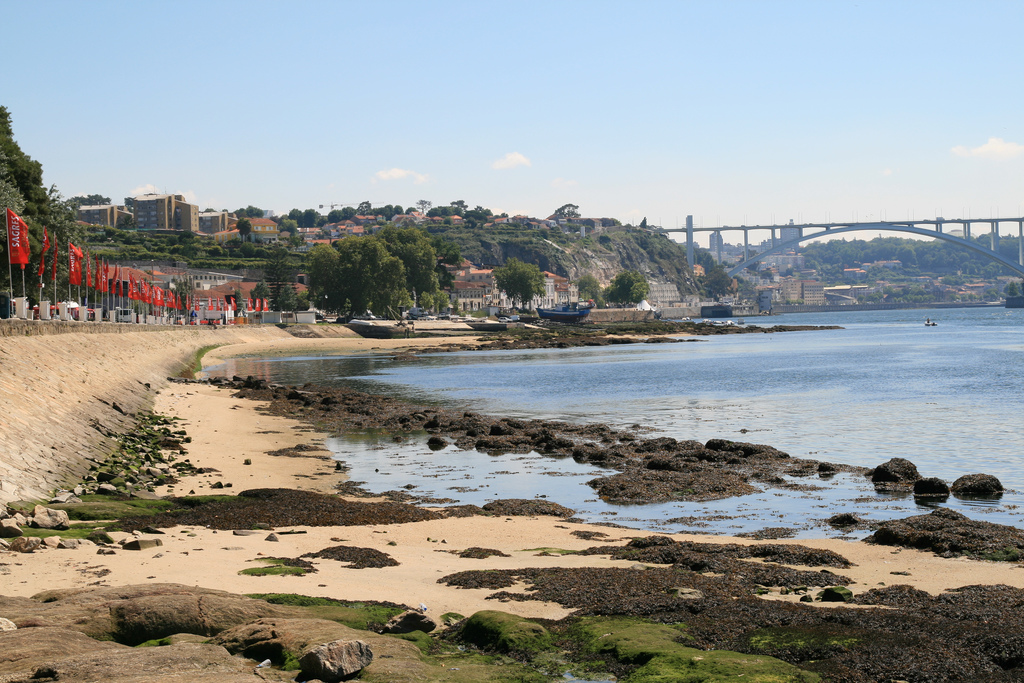arrabida: (653, 213, 1023, 281)
